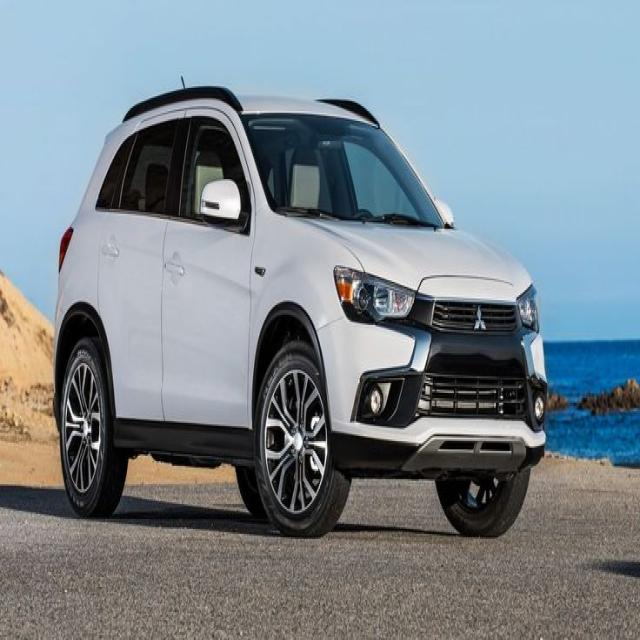light_vehicle: (52, 85, 548, 542)
